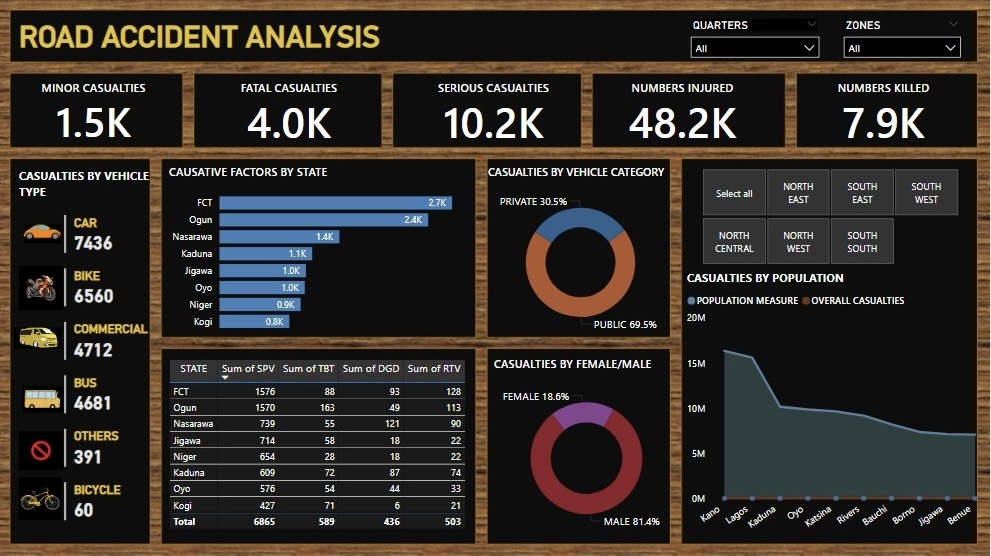

Layout of this report page (visuals, bound fields, positions):
{"tool":"powerbi","page":{"name":"Page 1","canvas":[1280,720],"ordinal":0},"visuals":[{"type":"card","title":"FATAL CASUALTIES","fields":{"Values":["Sum(Q1 2023 ROAD TRAFFIC.FATAL)"]},"box":[273.5,103.2,203.9,82.6],"z":0},{"type":"card","title":"SERIOUS CASUALTIES","fields":{"Values":["Sum(Q1 2023 ROAD TRAFFIC.SERIOUS)"]},"box":[538.1,103.2,202.6,82.6],"z":1000},{"type":"card","title":"NUMBERS INJURED","fields":{"Values":["Sum(Q1 2023 ROAD TRAFFIC.NUMBER INJURED)"]},"box":[781.9,103.2,202.6,82.6],"z":2000},{"type":"card","title":"NUMBERS KILLED","fields":{"Values":["Sum(Q1 2023 ROAD TRAFFIC.NUMBER KILLED)"]},"box":[1041.3,103.2,202.6,82.6],"z":3000},{"type":"slicer","fields":{"Values":["Q1 2023 ROAD TRAFFIC.QUARTERS"]},"box":[883.9,19.4,185.8,59.4],"z":4000},{"type":"card","title":"MINOR CASUALTIES","fields":{"Values":["Sum(Q1 2023 ROAD TRAFFIC.MINOR)"]},"box":[21.9,103.2,202.6,82.6],"z":5000},{"type":"multiRowCard","title":"CASUALTIES BY VEHICLE TYPE","fields":{"Values":["TYPES OF ROAD TRAFFIC VEH.VEHICLE TYPES (groups)","TYPES OF ROAD TRAFFIC VEH.SUM OF VEH TYPES"]},"box":[80,272.3,121.3,431],"z":6000},{"type":"donutChart","title":"CASUALTIES BY FEMALE/MALE","fields":{"Category":["SEX DIST OF PERSONS KILLED.SEX DISTRIBUTION OF PERSONS KILLED (groups)"],"Y":["SEX DIST OF PERSONS KILLED.TOTAL CASUALTIES"]},"box":[634.8,459.4,249,243.9],"z":7000},{"type":"donutChart","title":"CASUALTIES BY VEHICLE CATEGORY","fields":{"Category":["CATEGORY OF ROAD TRAFFIC VEH.VEHICLE CATEGORY (groups)"],"Y":["CATEGORY OF ROAD TRAFFIC VEH.TOTAL VEH CASUALTIES"]},"box":[634.8,211.6,249,234.8],"z":8000},{"type":"clusteredBarChart","title":"CAUSATIVE FACTORS BY STATE","fields":{"Category":["Q12023 CAUSE FACTOR.STATE"],"Y":["Sum(Q12023 CAUSE FACTOR.TOTAL)"]},"box":[216.1,212,397.8,225.7],"z":9000},{"type":"slicer","fields":{"Values":["Q12023 CAUSE FACTOR.ZONES"]},"box":[1081.8,19.3,170.7,59.2],"z":10000},{"type":"tableEx","fields":{"Values":["Q12023 CAUSE FACTOR.STATE","Sum(Q12023 CAUSE FACTOR.SPV)","Sum(Q12023 CAUSE FACTOR.TBT)","Sum(Q12023 CAUSE FACTOR.DGD)","Sum(Q12023 CAUSE FACTOR.RTV)"]},"box":[216.1,459.7,397.8,243.6],"z":11000},{"type":"areaChart","title":"CASUALTIES BY POPULATION","fields":{"Category":["Q1 2023 ROAD TRAFFIC.STATE"],"Y":["2025 ESTIMATED POPULATION.POPULATION MEASURE","Q1 2023 ROAD TRAFFIC.OVERALL CASUALTIES"]},"box":[883.6,348.2,396.4,355.1],"z":12000},{"type":"slicer","title":"POPULATION CASUALTY","fields":{"Values":["Q1 2023 ROAD TRAFFIC.ZONES CASUALTIES"]},"box":[883.6,212,378.5,136.3],"z":13000},{"type":"textbox","box":[22,19.3,564.3,59.2],"z":14000},{"type":"textbox","box":[22,212,178.9,59.2],"z":15000},{"type":"image","box":[21.9,549.7,67.1,63.2],"z":16000},{"type":"image","box":[28.4,256.8,58.1,90.3],"z":17000},{"type":"image","box":[22,330.3,67.4,82.6],"z":18000},{"type":"image","box":[21.9,600,64.5,87.7],"z":19000},{"type":"image","box":[27.1,487.7,61.9,54.2],"z":20000},{"type":"image","box":[15.1,385.4,71.6,101.8],"z":21000}]}

Visuals, with their boxes in screenshot pixels (x1, y1, x2, y2), scaled from the page's 1280x720 canvas onto the 991x556 screenshot:
"FATAL CASUALTIES" card: Rect(212, 80, 370, 143)
"SERIOUS CASUALTIES" card: Rect(417, 80, 573, 143)
"NUMBERS INJURED" card: Rect(605, 80, 762, 143)
"NUMBERS KILLED" card: Rect(806, 80, 963, 143)
slicer - Q1 2023 ROAD TRAFFIC.QUARTERS: Rect(684, 15, 828, 61)
"MINOR CASUALTIES" card: Rect(17, 80, 174, 143)
"CASUALTIES BY VEHICLE TYPE" multiRowCard: Rect(62, 210, 156, 543)
"CASUALTIES BY FEMALE/MALE" donutChart: Rect(491, 355, 684, 543)
"CASUALTIES BY VEHICLE CATEGORY" donutChart: Rect(491, 163, 684, 345)
"CAUSATIVE FACTORS BY STATE" clusteredBarChart: Rect(167, 164, 475, 338)
slicer - Q12023 CAUSE FACTOR.ZONES: Rect(838, 15, 970, 61)
tableEx - Q12023 CAUSE FACTOR.STATE x Sum(Q12023 CAUSE FACTOR.SPV): Rect(167, 355, 475, 543)
"CASUALTIES BY POPULATION" areaChart: Rect(684, 269, 990, 543)
"POPULATION CASUALTY" slicer: Rect(684, 164, 977, 269)
textbox: Rect(17, 15, 454, 61)
textbox: Rect(17, 164, 156, 209)
image: Rect(17, 424, 69, 473)
image: Rect(22, 198, 67, 268)
image: Rect(17, 255, 69, 319)
image: Rect(17, 463, 67, 531)
image: Rect(21, 377, 69, 418)
image: Rect(12, 298, 67, 376)
